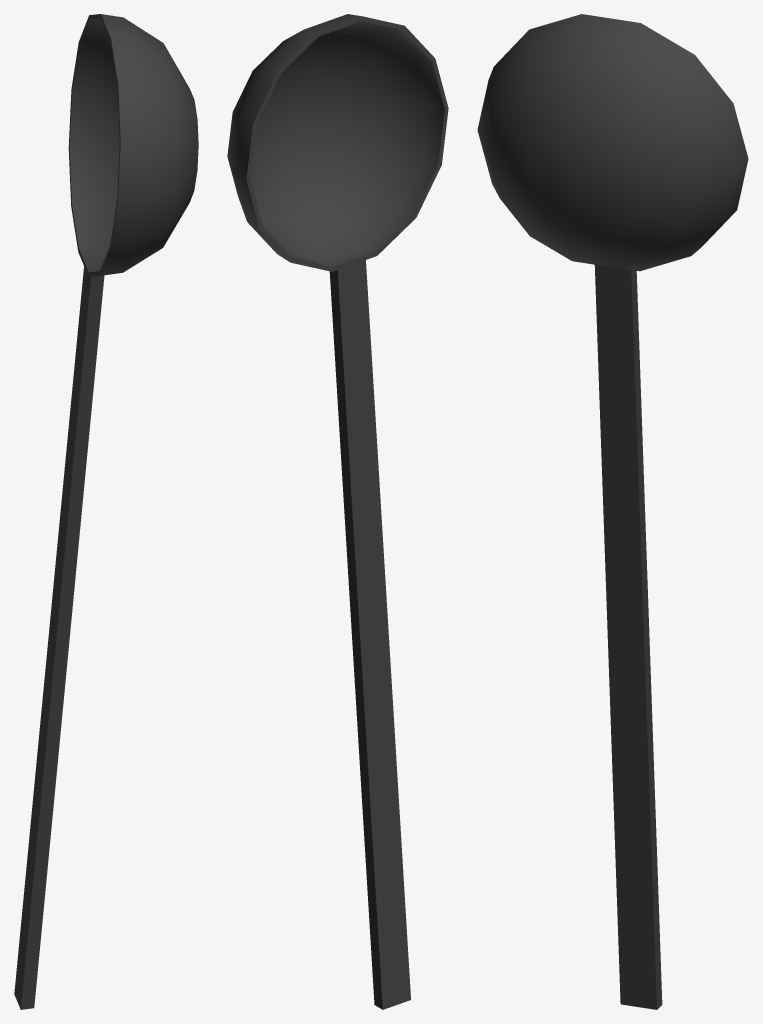
File: Kitchen_Spatula02.FBX
3 views of the same model, side by side, from view 1: azimuth 30°, elevation 25°; view 2: azimuth 150°, elevation 25°; view 3: azimuth 270°, elevation 25° (orthographic). The views are drawn at different scales.
Parts seen in each view (by area): view 1: Kitchen_spatula_2; view 2: Kitchen_spatula_2; view 3: Kitchen_spatula_2.
Boxes of the visible parts, x1,y1,x2,y2 form: Kitchen_spatula_2: [14, 14, 198, 1009]; Kitchen_spatula_2: [227, 14, 448, 1009]; Kitchen_spatula_2: [477, 14, 748, 1009].
Bounding box in the file's own units: 0.0634 × 0.3597 × 0.0865.
